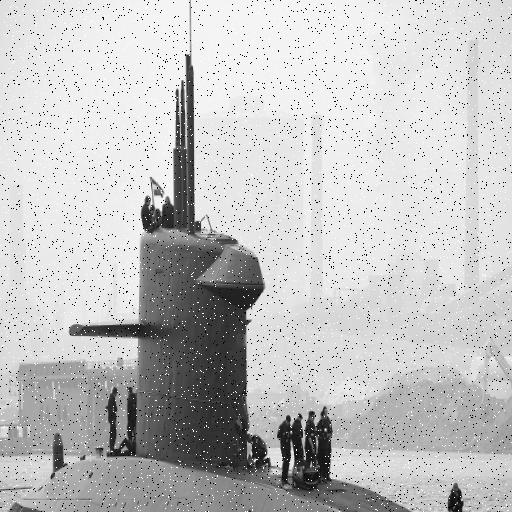submarine: (4, 1, 486, 512)
